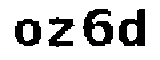6: (82, 4, 114, 49)
d: (120, 6, 148, 51)
o: (13, 17, 42, 47)
z: (46, 16, 77, 51)
